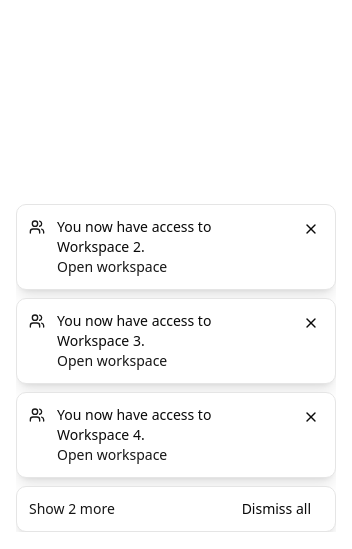
Test: WorkspaceAddedNotice (#355) › with many added at once › shows the newest three and offers the rest behind Show more
This screenshot has width=352, height=549.
Expected: the element with test id "workspace-added-notice-w4" is shown, 16,392 -> 336,478
Expected: the element with test id "workspace-added-notice-w2" is shown, 16,204 -> 336,290
Click the button with test id "workspace-added-notice-show-more" at (72, 509), box 29,499 -> 115,519
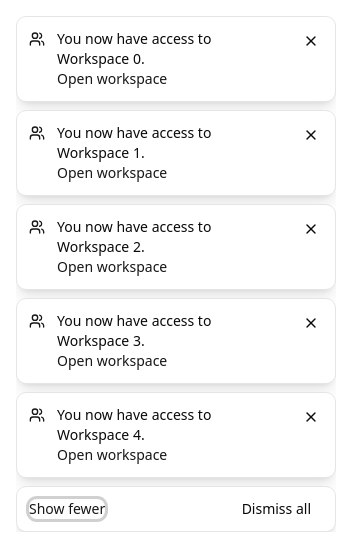
Result: the element with test id "workspace-added-notice-w0" is shown at 16,16 -> 336,102
Result: the button with test id "workspace-added-notice-show-more" reads "Show fewer" at 29,499 -> 105,519
